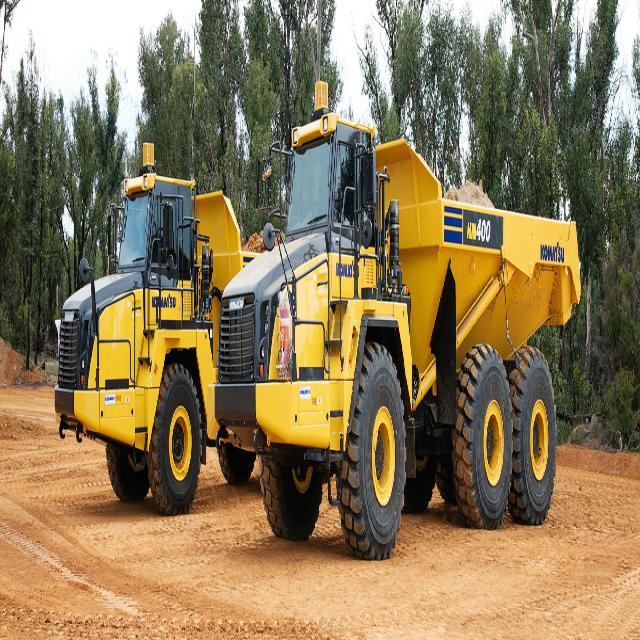dump_truck: (217, 69, 588, 573), (49, 140, 236, 525)
